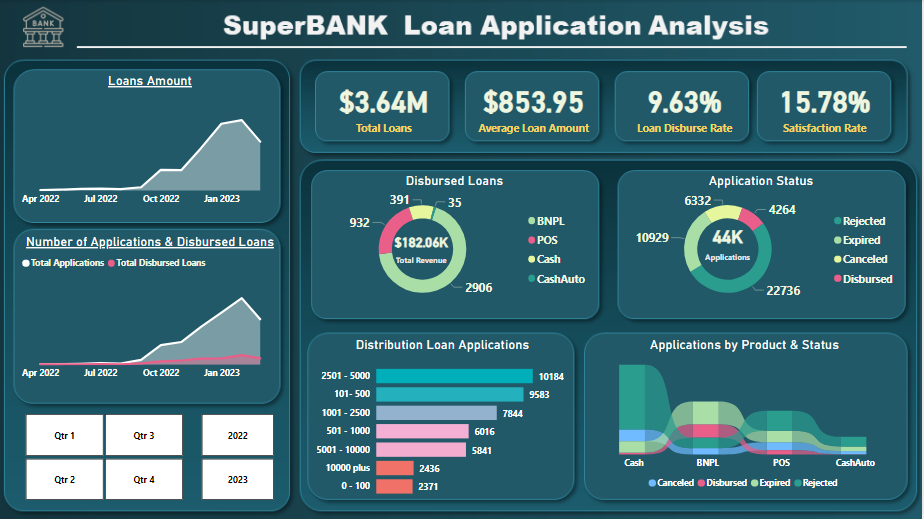

What the dashboard file says about the page in this screenshot:
{"tool":"powerbi","page":{"name":"Dashboard","canvas":[1280,720],"ordinal":0},"visuals":[{"type":"donutChart","title":"Disbursed Loans","fields":{"Category":["Dataset.Product"],"Y":["CountNonNull(Dataset.Application ID)"]},"box":[435.6,240,389.8,190.1],"z":0},{"type":"areaChart","title":"Loans Amount","fields":{"Category":["Dataset.Timestamp.Variation.Date Hierarchy.Year","Dataset.Timestamp.Variation.Date Hierarchy.Month"],"Y":["Sum(Dataset.Amount)"]},"box":[25,101.3,366.2,192.8],"z":1000},{"type":"areaChart","title":"Number of Applications & Disbursed Loans","fields":{"Category":["Dataset.Timestamp.Variation.Date Hierarchy.Year","Dataset.Timestamp.Variation.Date Hierarchy.Month"],"Y2":["Dataset.Total Disbursed Loans"],"Y":["Dataset.Total Applications"]},"box":[25,324.6,366.2,210.9],"z":2000},{"type":"donutChart","title":"Application Status","fields":{"Category":["Dataset.Status"],"Y":["CountNonNull(Dataset.Application ID)"]},"box":[858.7,240,394,190.1],"z":3000},{"type":"card","fields":{"Values":["Dataset.Loan Disburse Rate"]},"box":[840.1,95.7,218.2,102.9],"z":4000,"group":"g1"},{"type":"clusteredBarChart","title":"Distribution Loan Applications","fields":{"Category":["Dataset.AMount Category"],"Y":["CountNonNull(Dataset.Application ID)"]},"box":[432.8,467.5,362.1,233.1],"z":4000},{"type":"card","fields":{"Values":["Dataset.Satisfaction Rate"]},"box":[1034.8,95.7,218.2,102.9],"z":5000,"group":"g1"},{"type":"slicer","fields":{"Values":["Dataset.Timestamp.Variation.Date Hierarchy.Quarter"]},"box":[9.7,567.4,267.7,133.2],"z":5000},{"type":"slicer","fields":{"Values":["Dataset.Timestamp.Variation.Date Hierarchy.Year"]},"box":[253.9,567.4,149.8,133.2],"z":6000},{"type":"card","fields":{"Values":["Dataset.Total Loan Applications"]},"box":[914.2,284.4,190.1,102.7],"z":7000},{"type":"group","id":"g1","title":"Group 1","box":[423.1,95.7,829.6,102.7],"z":8000},{"type":"card","fields":{"Values":["Dataset.Average Loan Amount"]},"box":[631.6,95.7,218.2,102.9],"z":9000,"group":"g1"},{"type":"ribbonChart","title":"Applications by Product & Status","fields":{"Category":["Dataset.Product"],"Series":["Dataset.Status"],"Y":["CountNonNull(Dataset.Amount Category)"]},"box":[812.9,467.5,439.8,220.6],"z":9000},{"type":"card","fields":{"Values":["Dataset.Total Loans"]},"box":[423.1,95.7,218.2,102.9],"z":10000,"group":"g1"},{"type":"card","fields":{"Values":["Dataset.Total Revenue"]},"box":[502.2,301,163.7,86],"z":10000}]}

Visuals, with their boxes in screenshot pixels (x1, y1, x2, y2), scaled from the page's 1280x720 canvas onto the 924x519 screenshot:
"Disbursed Loans" donutChart: <region>314, 173, 596, 310</region>
"Loans Amount" areaChart: <region>18, 73, 282, 212</region>
"Number of Applications & Disbursed Loans" areaChart: <region>18, 234, 282, 386</region>
"Application Status" donutChart: <region>620, 173, 904, 310</region>
card - Dataset.Loan Disburse Rate: <region>606, 69, 764, 143</region>
"Distribution Loan Applications" clusteredBarChart: <region>312, 337, 574, 505</region>
card - Dataset.Satisfaction Rate: <region>747, 69, 905, 143</region>
slicer - Dataset.Timestamp.Variation.Date Hierarchy.Quarter: <region>7, 409, 200, 505</region>
slicer - Dataset.Timestamp.Variation.Date Hierarchy.Year: <region>183, 409, 291, 505</region>
card - Dataset.Total Loan Applications: <region>660, 205, 797, 279</region>
"Group 1" group: <region>305, 69, 904, 143</region>
card - Dataset.Average Loan Amount: <region>456, 69, 613, 143</region>
"Applications by Product & Status" ribbonChart: <region>587, 337, 904, 496</region>
card - Dataset.Total Loans: <region>305, 69, 463, 143</region>
card - Dataset.Total Revenue: <region>363, 217, 481, 279</region>
